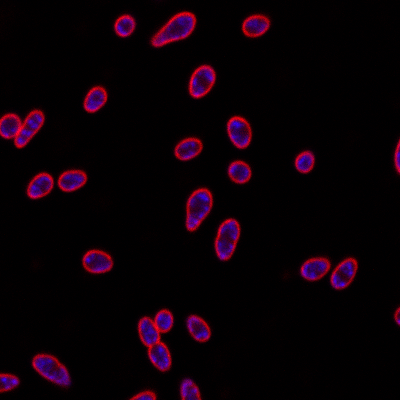Mecillinam: (137, 315, 172, 372), (182, 188, 214, 231), (12, 110, 48, 148), (213, 217, 241, 264), (187, 61, 216, 100), (330, 257, 361, 290), (80, 248, 114, 275), (227, 115, 252, 149), (25, 172, 55, 200), (298, 256, 330, 282), (172, 136, 204, 161), (57, 168, 88, 193), (240, 14, 272, 38), (82, 86, 110, 113), (226, 159, 252, 185), (112, 14, 137, 38), (293, 149, 316, 175), (1, 111, 23, 138), (154, 307, 174, 334)
Oblique: (148, 11, 196, 49), (30, 350, 73, 389), (184, 312, 211, 344)
